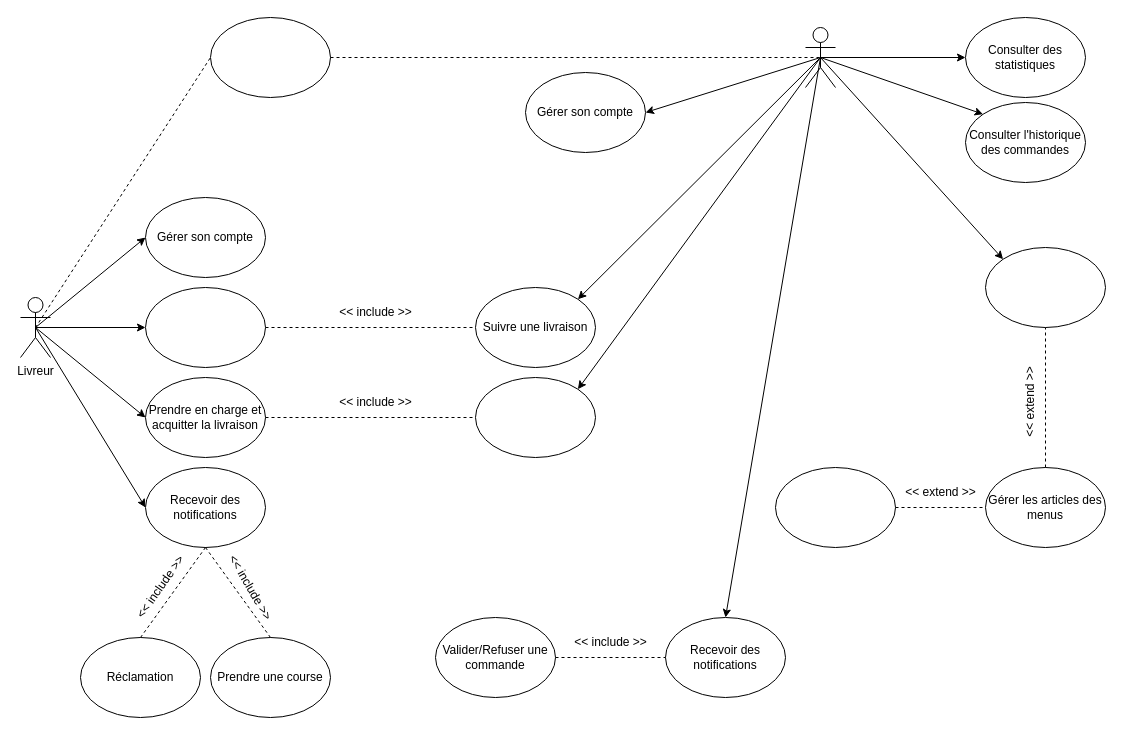
This 1123x735 diagram has some shape labels left out. The box of each missing label's shape, as (x1, y1, x2, y2) in pixels:
Accepter ou refuser une livraison: (144, 286, 266, 368)
Gérer ses articles: (984, 246, 1106, 328)
Gérer ses menus: (774, 466, 896, 548)
Parrainer un ami: (210, 16, 330, 98)
Restaurateur: (804, 26, 836, 88)
Visualiser, valider une commande: (474, 376, 596, 458)
